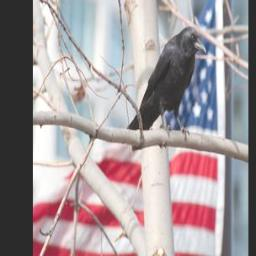Crow: (125, 24, 206, 146)
